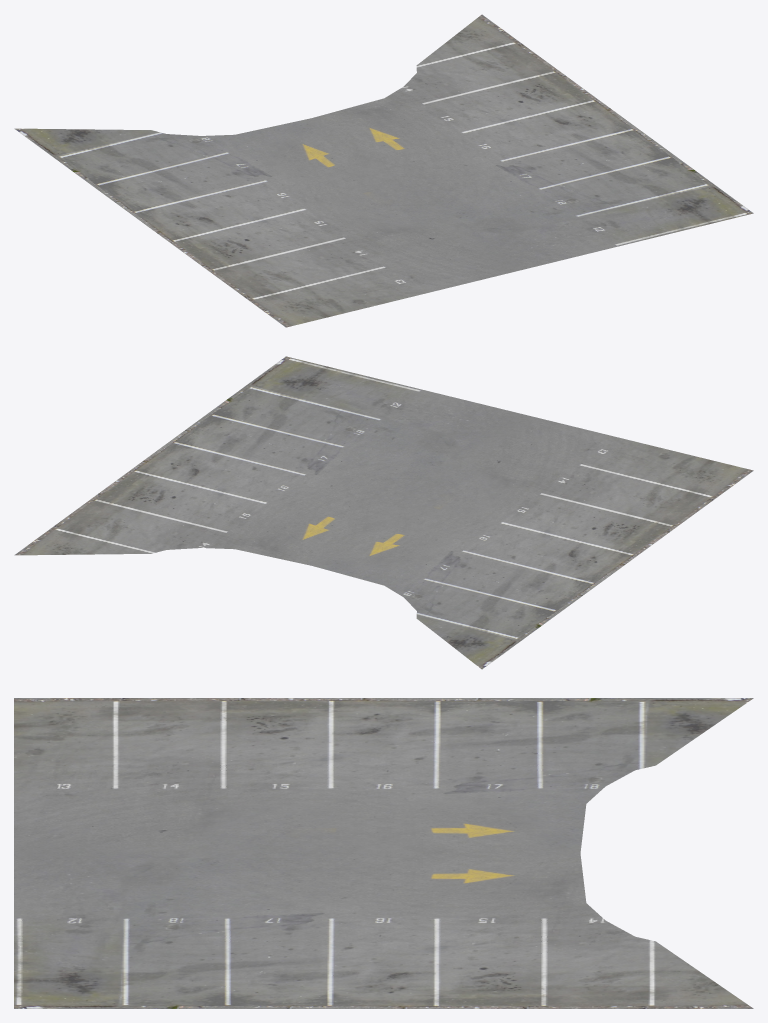
The model's file is parking_lot.dae.
3 views of the same model, one above another, from view 1: azimuth 30°, elevation 25°; view 2: azimuth 150°, elevation 25°; view 3: azimuth 270°, elevation 25° (orthographic). The views are drawn at different scales.
Parts seen in each view (by area): view 1: Object020; view 2: Object020; view 3: Object020.
Boxes of the visible parts, x1=… form: Object020: x1=14, y1=14, x2=753, y2=327; Object020: x1=14, y1=356, x2=753, y2=669; Object020: x1=14, y1=698, x2=753, y2=1008.
Size of the model in its own units: 1557 by 1567 by 3.1e-05.
1 material, 1 textured.
